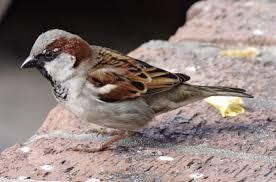hsparrow: (13, 27, 255, 152)
